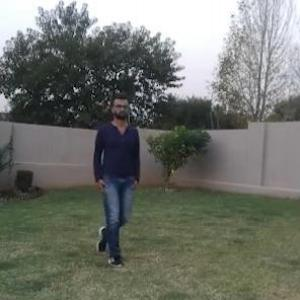follow: (94, 102, 137, 248)
